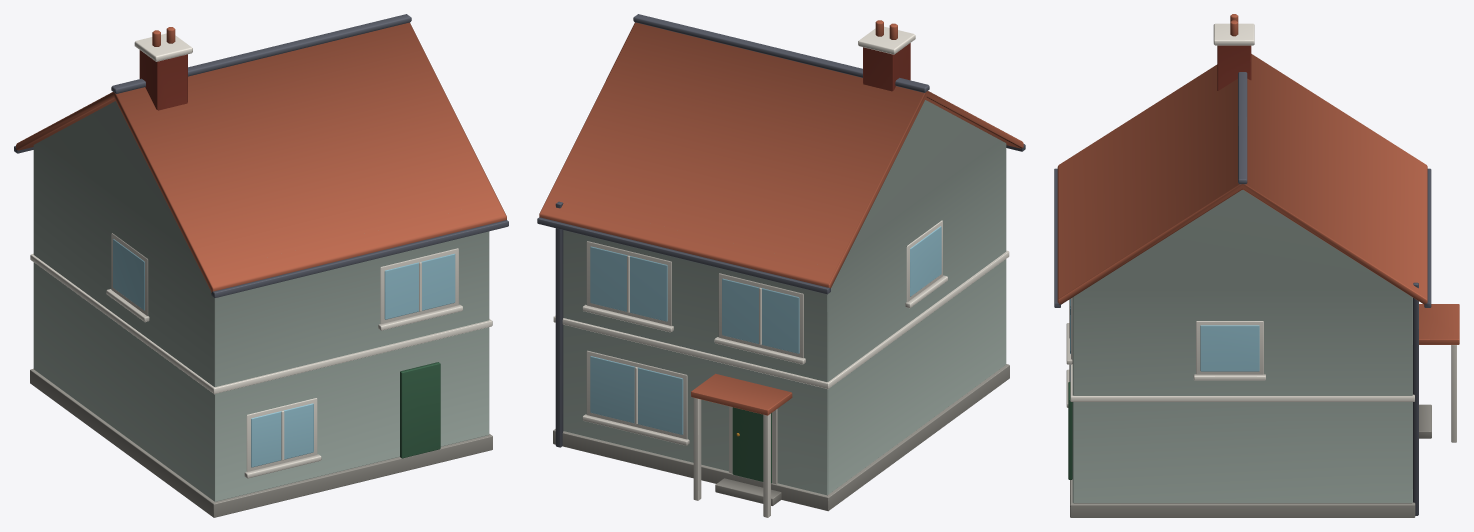
Rendered from house_b.glb.
3 renders of one model, left to right at view 1: azimuth 30°, elevation 25°; view 2: azimuth 150°, elevation 25°; view 3: azimuth 270°, elevation 25°, orthographic. The views are drawn at different scales.
Parts seen in each view (by area): view 1: Body, Roof; view 2: Body, Roof; view 3: Body, Roof.
Part boxes in pixels (left/top/right/bottom): Body: left=14, top=101, right=508, bottom=517; Roof: left=16, top=14, right=506, bottom=292; Body: left=537, top=100, right=1025, bottom=517; Roof: left=539, top=14, right=1023, bottom=288; Body: left=1054, top=168, right=1459, bottom=517; Roof: left=1057, top=14, right=1427, bottom=304.
Bounding box in the file's own units: 7.54 × 10.1 × 9.53.
1 material, 1 textured.
